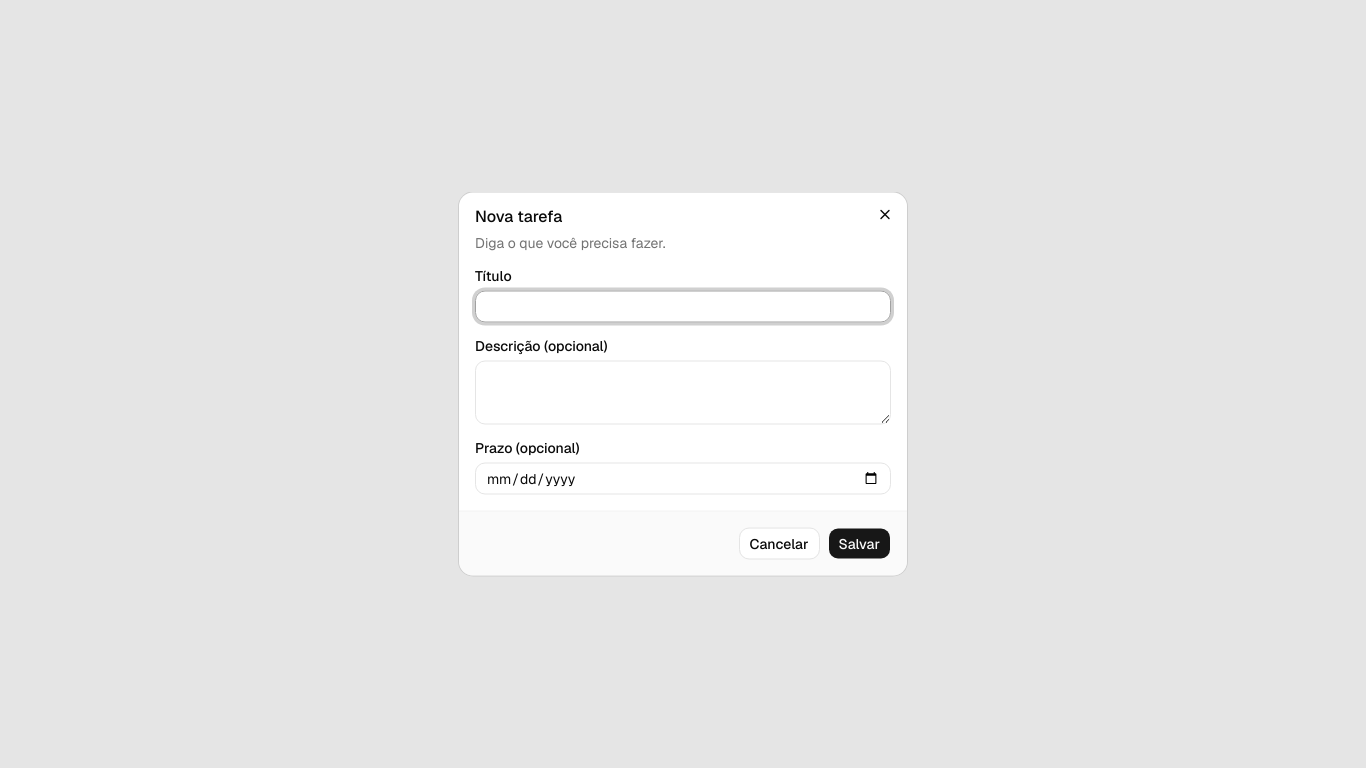
Test: TaskFormDialog creating › puts a server field error under its field
Type "Comprar pão" into the field labelled "Título".
click(683, 306); type("Comprar pão")  # box x1=475 y1=290 x2=891 y2=322
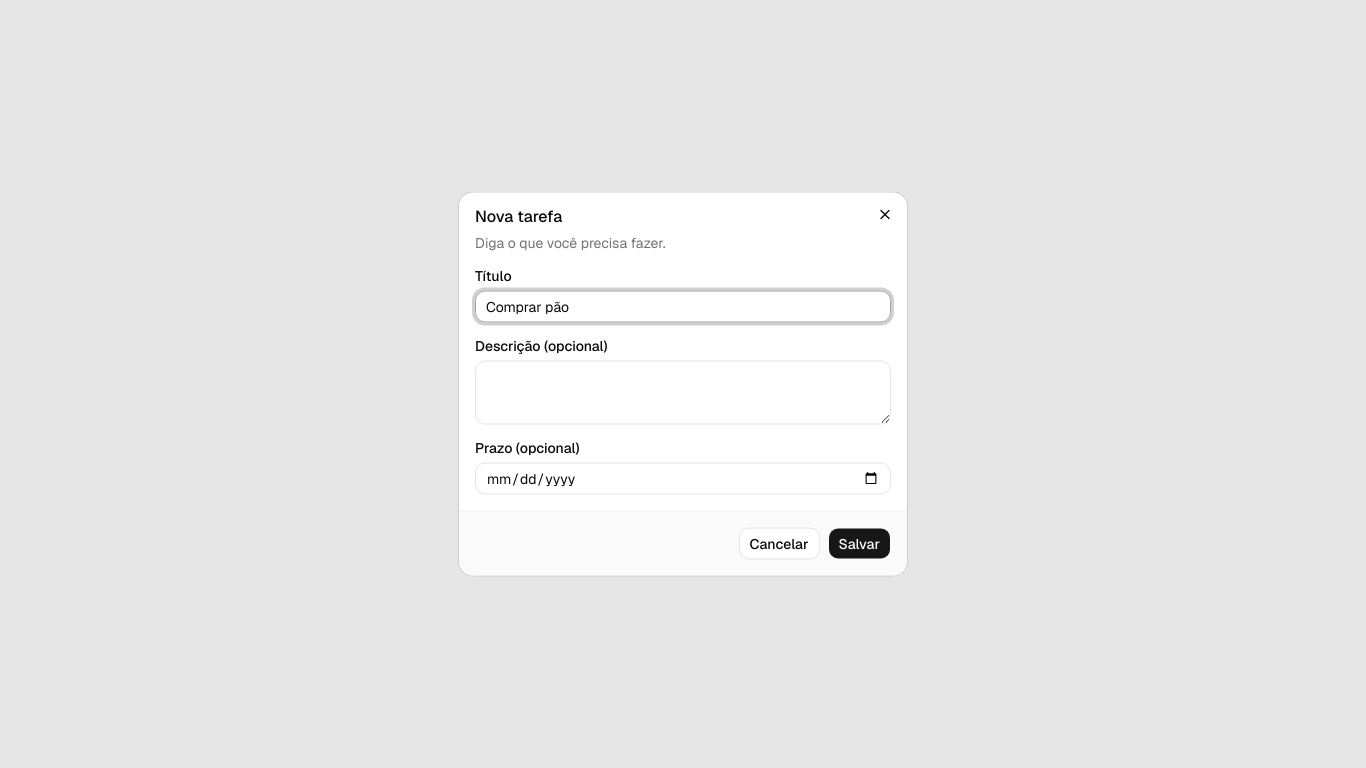
Click the button "Salvar".
click(859, 544)  # box x1=828 y1=528 x2=891 y2=560
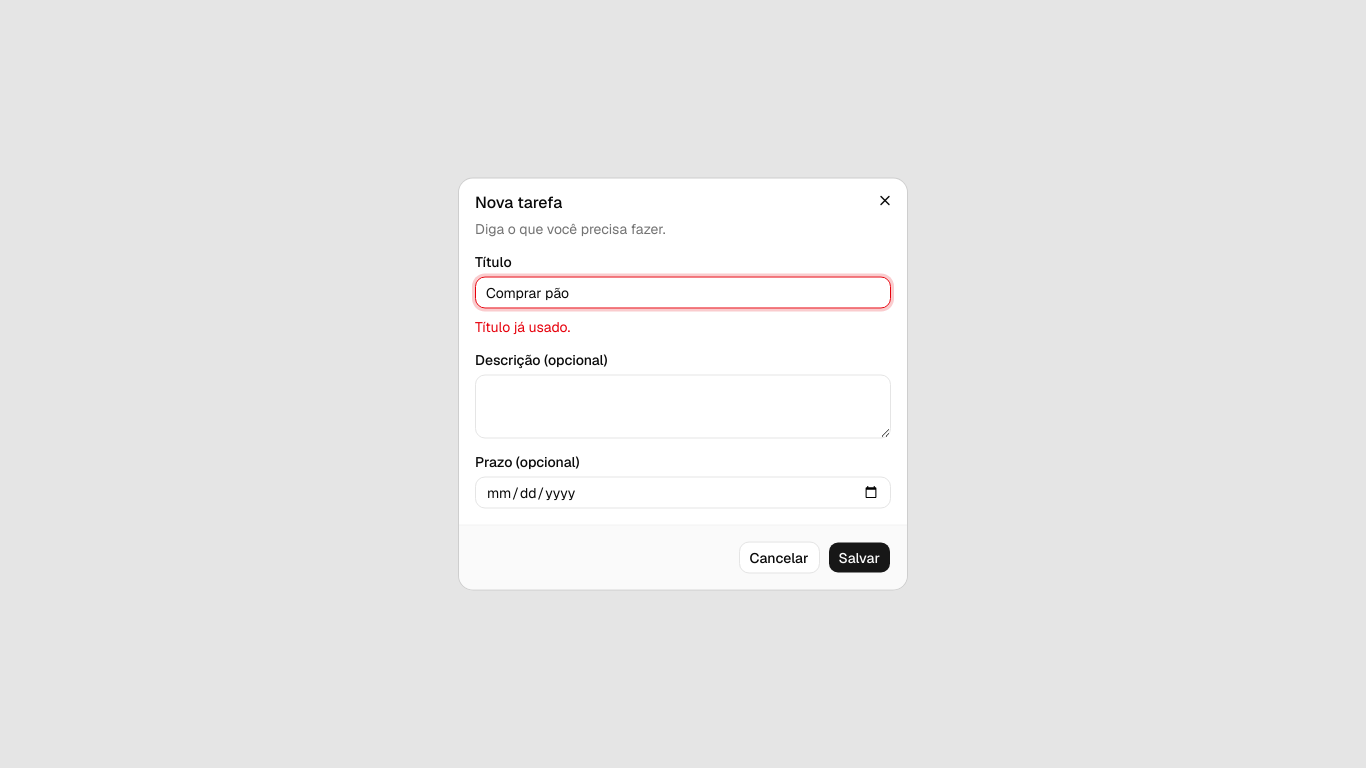
expect the text "Título já usado." is shown: met, box x1=475 y1=318 x2=570 y2=336
